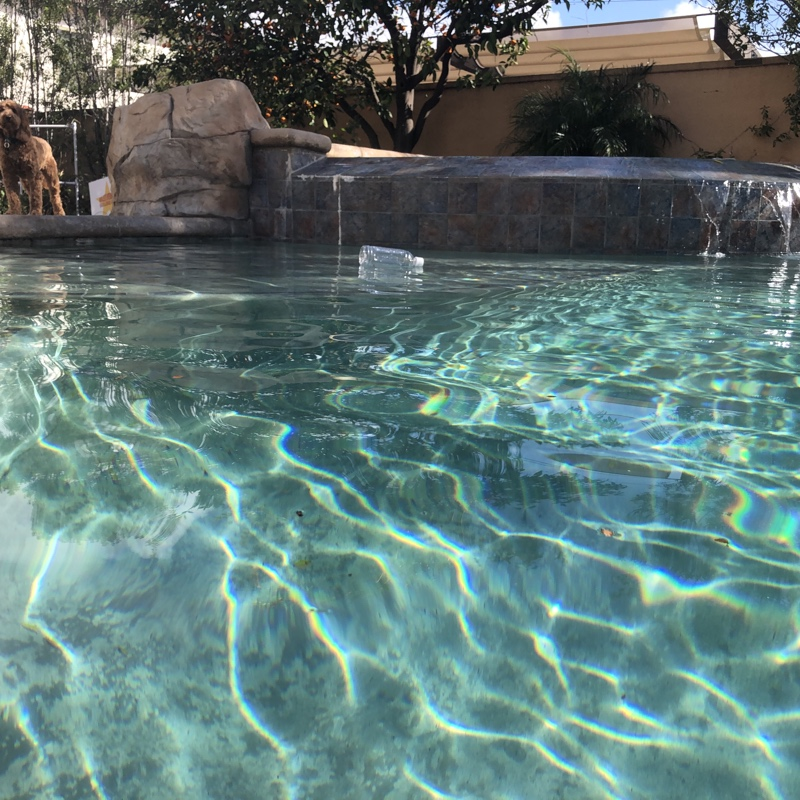Plastic Bottle: (356, 245, 425, 275)
